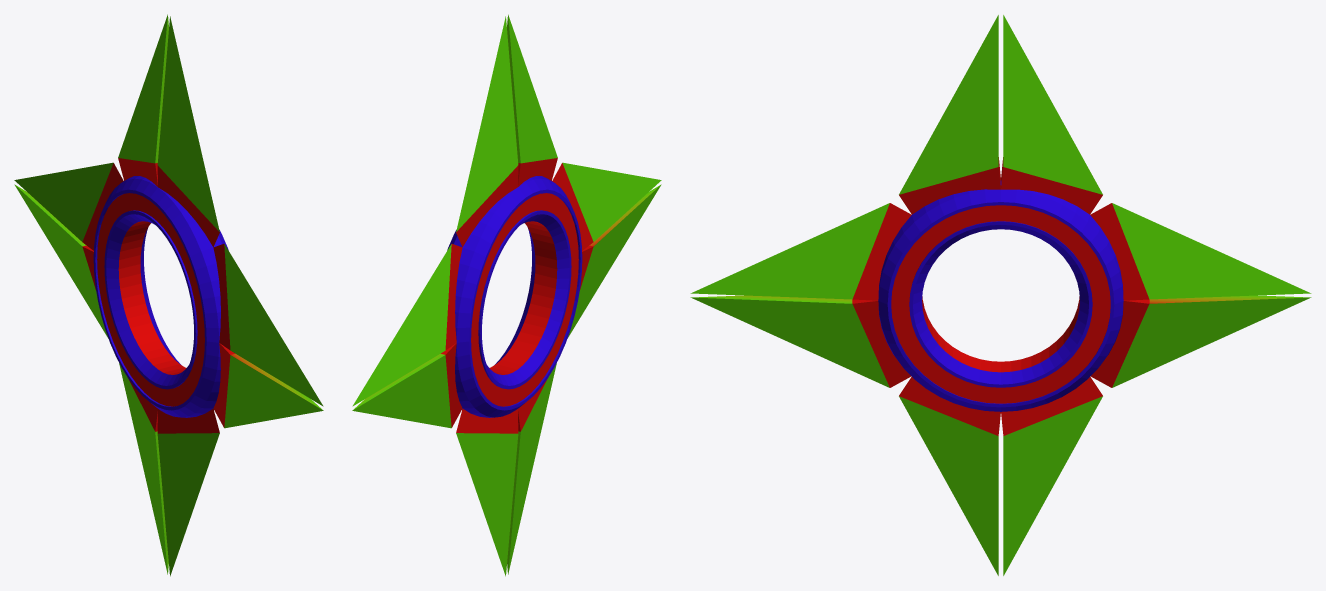
Rendered from Shuriken.fbx.
The picture shows the model from 3 angles, left to right: view 1: azimuth 30°, elevation 25°; view 2: azimuth 150°, elevation 25°; view 3: azimuth 270°, elevation 25°; orthographic projection.
Parts seen in each view (by area): view 1: shuriken; view 2: shuriken; view 3: shuriken.
Boxes of the visible parts, x1,y1,x2,y2 form: shuriken: (14,14,323,576); shuriken: (352,14,661,576); shuriken: (690,15,1311,575).
Size of the model in its own units: 43.3 by 617 by 617.
